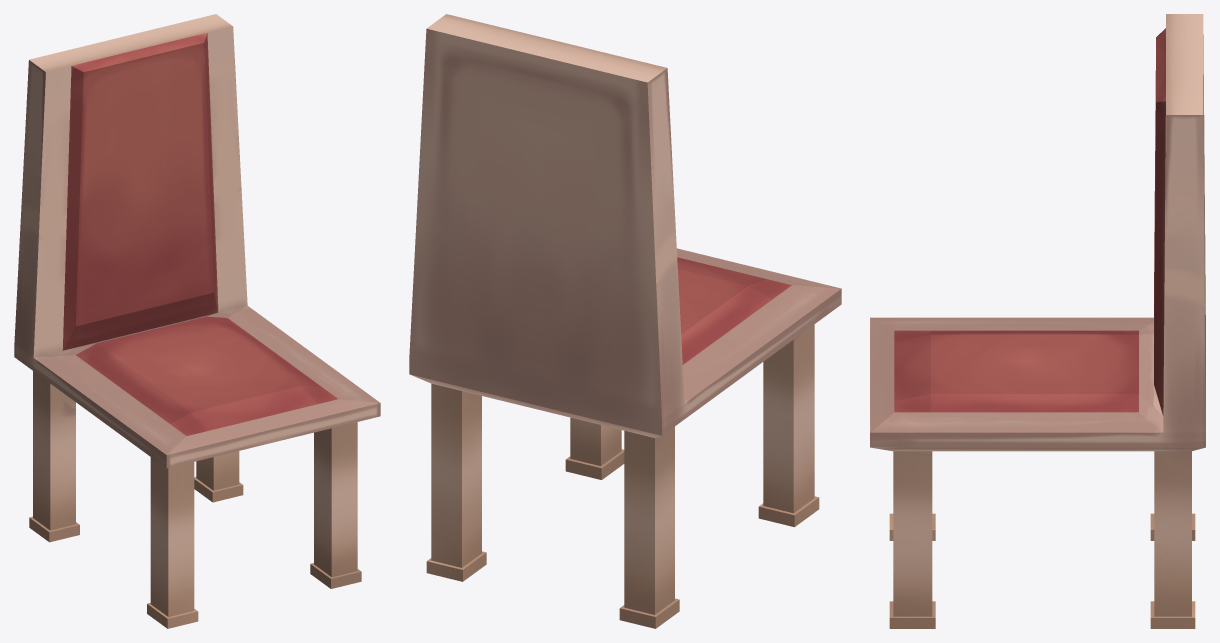
Rendered from KitchenChair.fbx.
3 views of the same model, side by side, from view 1: azimuth 30°, elevation 25°; view 2: azimuth 150°, elevation 25°; view 3: azimuth 270°, elevation 25° (orthographic). The views are drawn at different scales.
Parts seen in each view (by area): view 1: KitchenChair; view 2: KitchenChair; view 3: KitchenChair.
Boxes of the visible parts, <box> form: KitchenChair: <box>14,14,380,628</box>; KitchenChair: <box>409,14,841,628</box>; KitchenChair: <box>870,14,1205,628</box>.
Bounding box in the file's own units: 39.1 × 81.1 × 48.15.
Materials: 1 (1 with a texture image).
